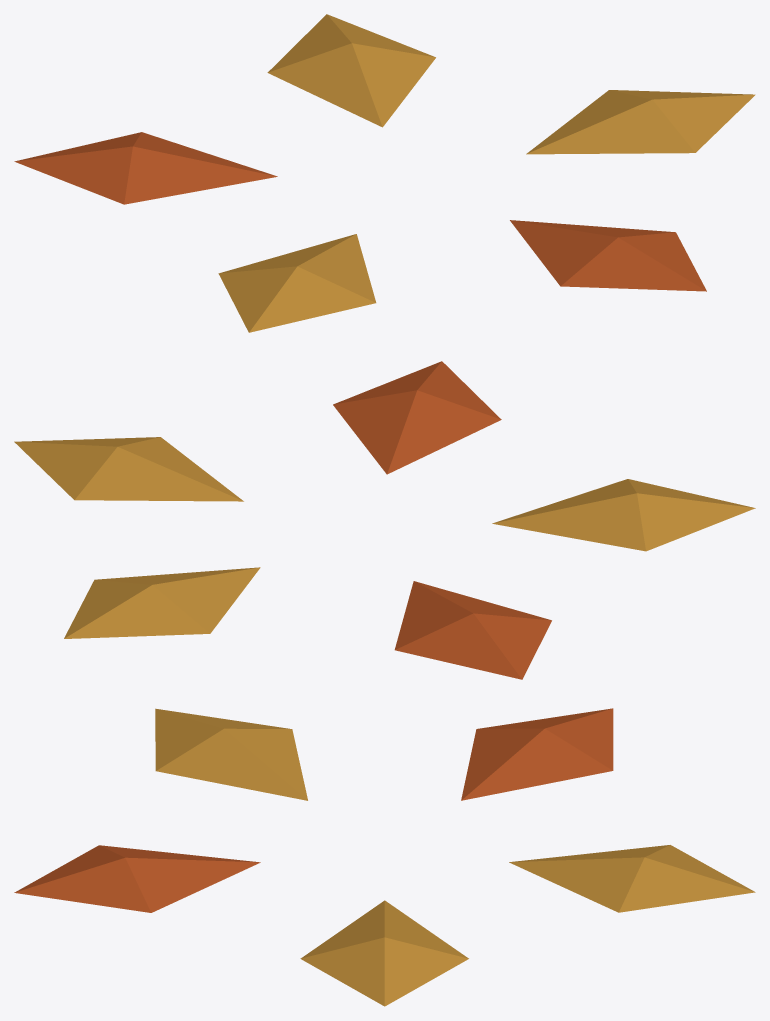
The picture shows the model from 3 angles, top to bottom: view 1: azimuth 30°, elevation 25°; view 2: azimuth 150°, elevation 25°; view 3: azimuth 270°, elevation 25°; orthographic projection. The views are drawn at different scales.
Visible parts, largest first — view 1: V11_扇形落叶簇; view 2: V11_扇形落叶簇; view 3: V11_扇形落叶簇.
Boxes of the visible parts, box(x1,y1,x2,y2) form: V11_扇形落叶簇: box(14, 14, 755, 332); V11_扇形落叶簇: box(14, 361, 755, 679); V11_扇形落叶簇: box(14, 708, 755, 1006).
Size of the model in its own units: 0.543 by 0.0199 by 0.5708.
